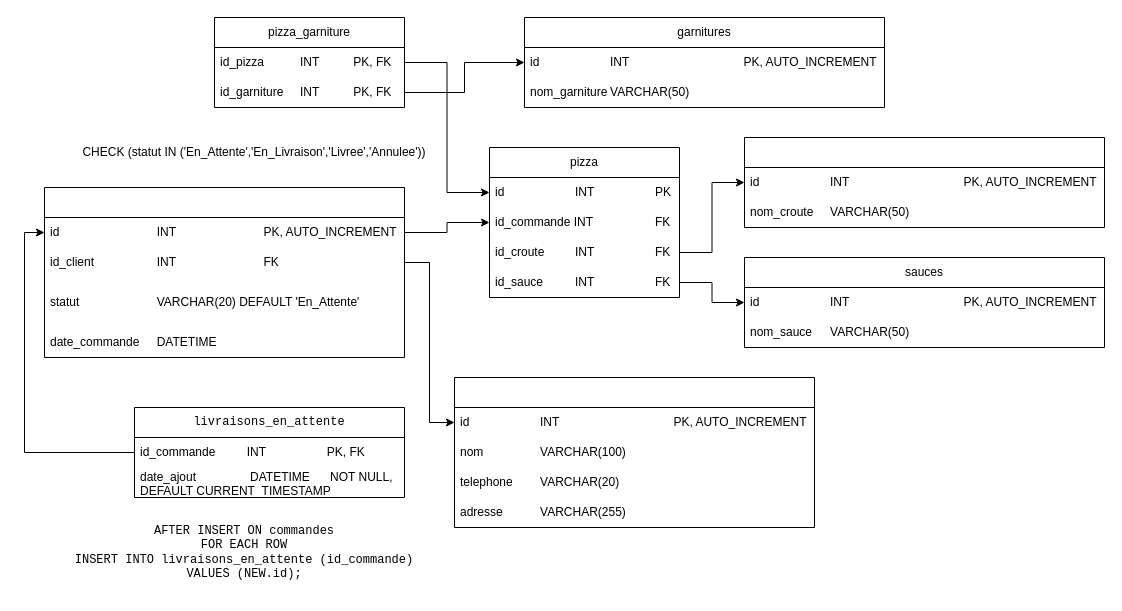
Image size: 1122x611. Some labels were removed from this diagram. Here are the shapes that lost their labels. From the top down, the box of each, then its label:
(744, 136, 1104, 228): croutes
(44, 186, 404, 358): commandes
(454, 376, 814, 528): clients
